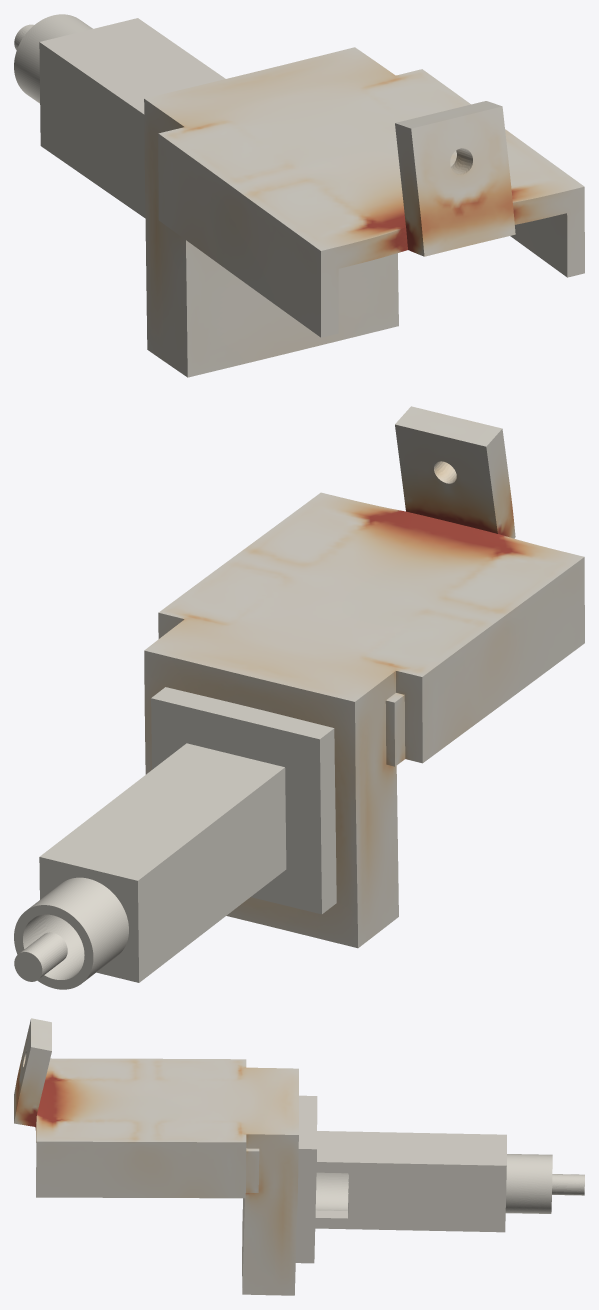
The model's file is z_saddle_tab16_REL_vm.glb.
3 renders of one model, top to bottom at view 1: azimuth 30°, elevation 25°; view 2: azimuth 150°, elevation 25°; view 3: azimuth 270°, elevation 25°, orthographic. The views are drawn at different scales.
Visible parts, largest first — view 1: geometry_0; view 2: geometry_0; view 3: geometry_0.
Part boxes in pixels (x1,y1,x2,y2): geometry_0: [14, 14, 584, 377]; geometry_0: [14, 406, 584, 989]; geometry_0: [14, 1018, 584, 1295].
Size of the model in its own units: 150 by 193 by 435.
